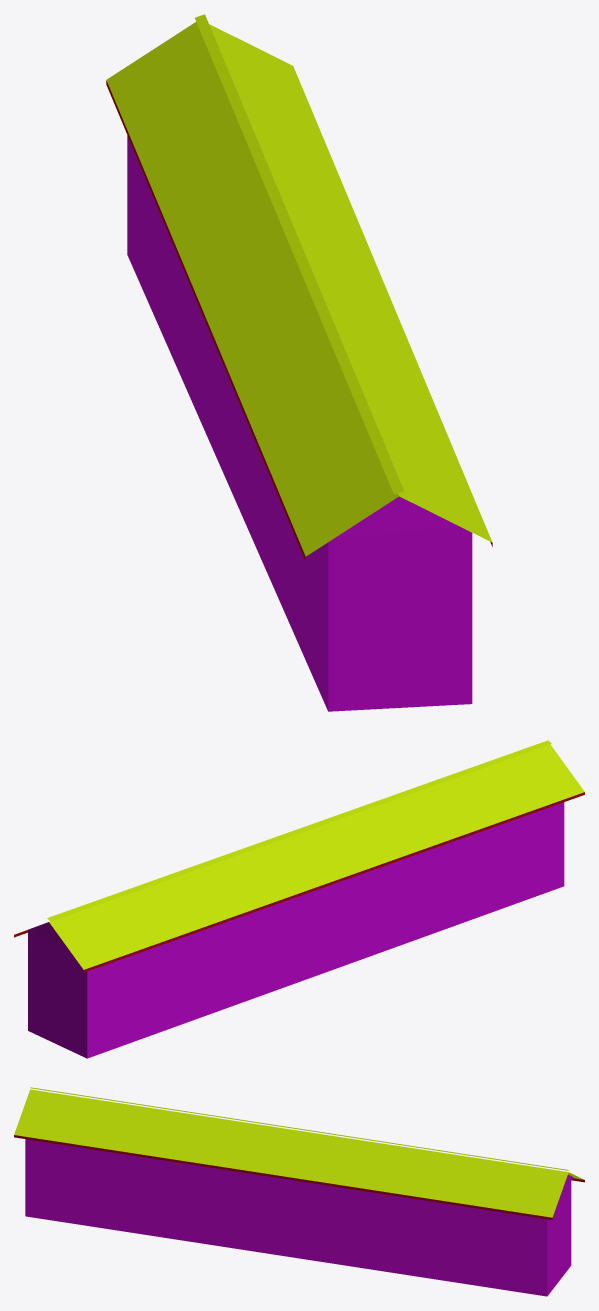
Rendered from bgj_96.glb.
The picture shows the model from 3 angles, top to bottom: view 1: azimuth 30°, elevation 25°; view 2: azimuth 150°, elevation 25°; view 3: azimuth 270°, elevation 25°; orthographic projection. The views are drawn at different scales.
Parts seen in each view (by area): view 1: bgj_96; view 2: bgj_96; view 3: bgj_96.
Part boxes in pixels (left/top/right/bottom): bgj_96: left=106, top=14, right=492, bottom=711; bgj_96: left=14, top=740, right=584, bottom=1058; bgj_96: left=14, top=1087, right=584, bottom=1296.
Size of the model in its own units: 13.03 by 5.69 by 26.11.
